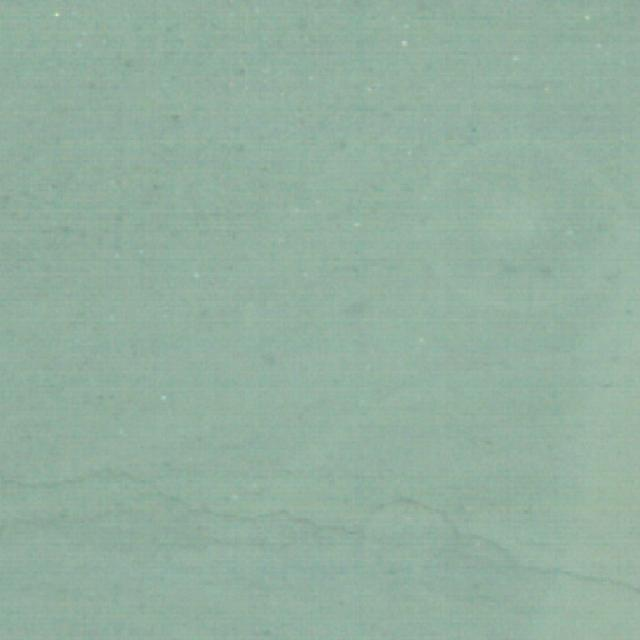Transverse: (0, 466, 640, 592)
